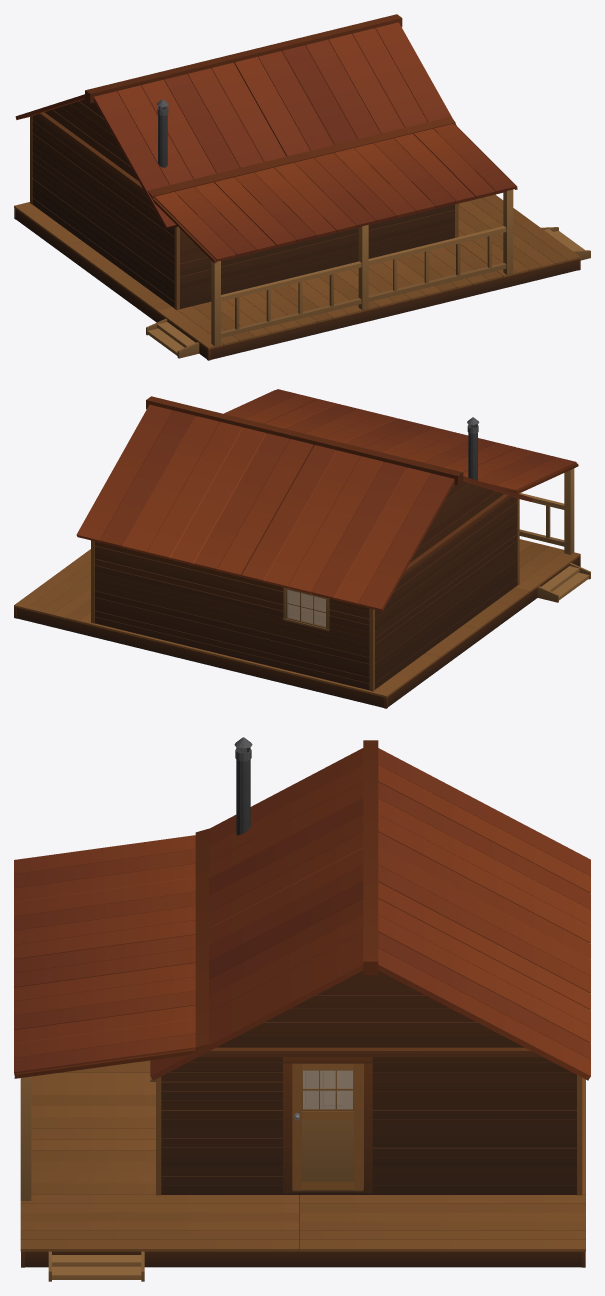
The model's file is Bld_Wooden_Cabin_02.obj.
3 views of the same model, one above another, from view 1: azimuth 30°, elevation 25°; view 2: azimuth 150°, elevation 25°; view 3: azimuth 270°, elevation 25° (orthographic). The views are drawn at different scales.
Parts seen in each view (by area): view 1: Bld_Wooden_Cabin_02; view 2: Bld_Wooden_Cabin_02, (_ignore)_Bld_Wooden_Cabin_Windows_02; view 3: Bld_Wooden_Cabin_02, Bld_Wooden_Cabin_Door_02, (_ignore)_Bld_Wooden_Cabin_Door_Window_02.
Boxes of the visible parts, box(x1,y1,x2,y2) form: Bld_Wooden_Cabin_02: box(14, 14, 590, 360); Bld_Wooden_Cabin_02: box(14, 389, 590, 708); (_ignore)_Bld_Wooden_Cabin_Windows_02: box(287, 590, 325, 626); Bld_Wooden_Cabin_02: box(14, 737, 590, 1281); Bld_Wooden_Cabin_Door_02: box(292, 1063, 363, 1190); (_ignore)_Bld_Wooden_Cabin_Door_Window_02: box(303, 1070, 352, 1108).
Bounding box in the file's own units: 9.66 × 4.43 × 8.05.
Materials: 2 (1 with a texture image).
